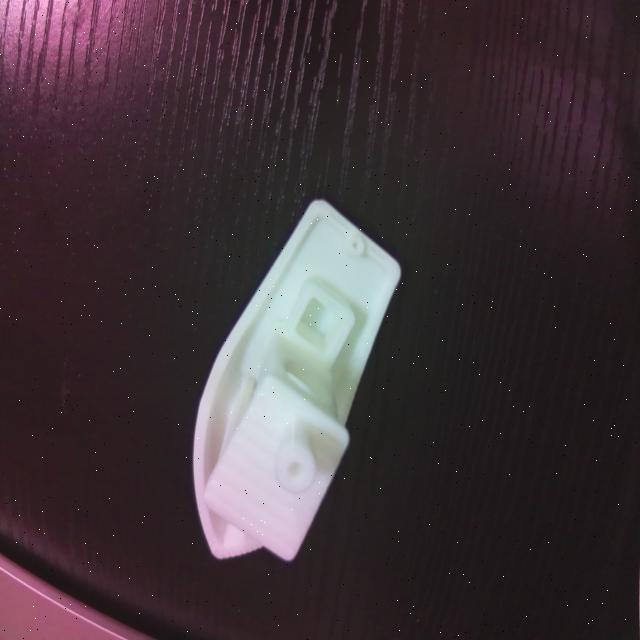ship: (195, 202, 402, 563)
